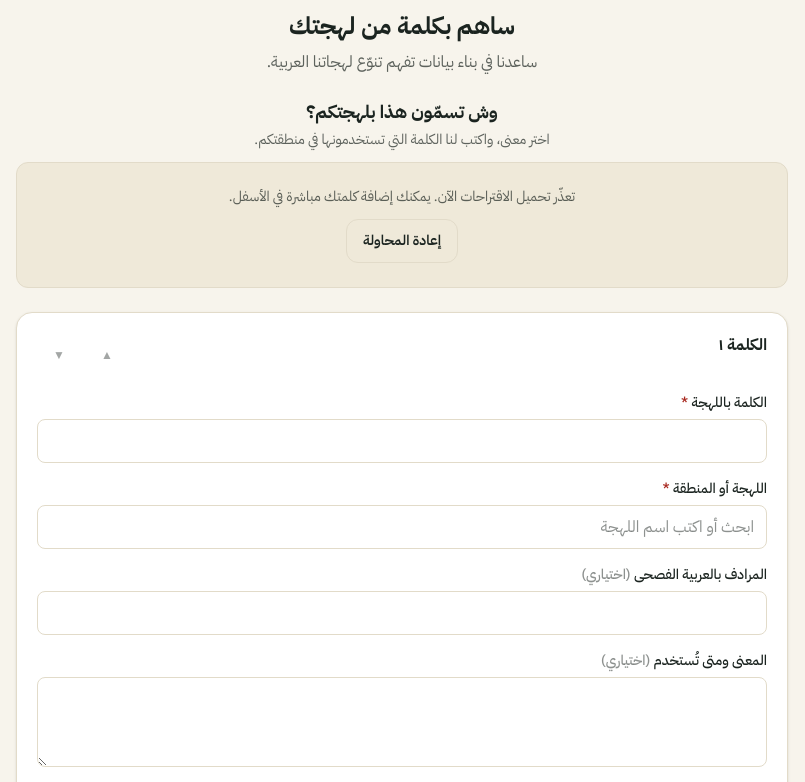
Test case: ContributionForm › retrying after a failed guided-prompt load refetches and clears the error state
The width and height of the screenshot is (805, 782).
Click the button "إعادة المحاولة": {"x": 402, "y": 241} 346,219 -> 458,263
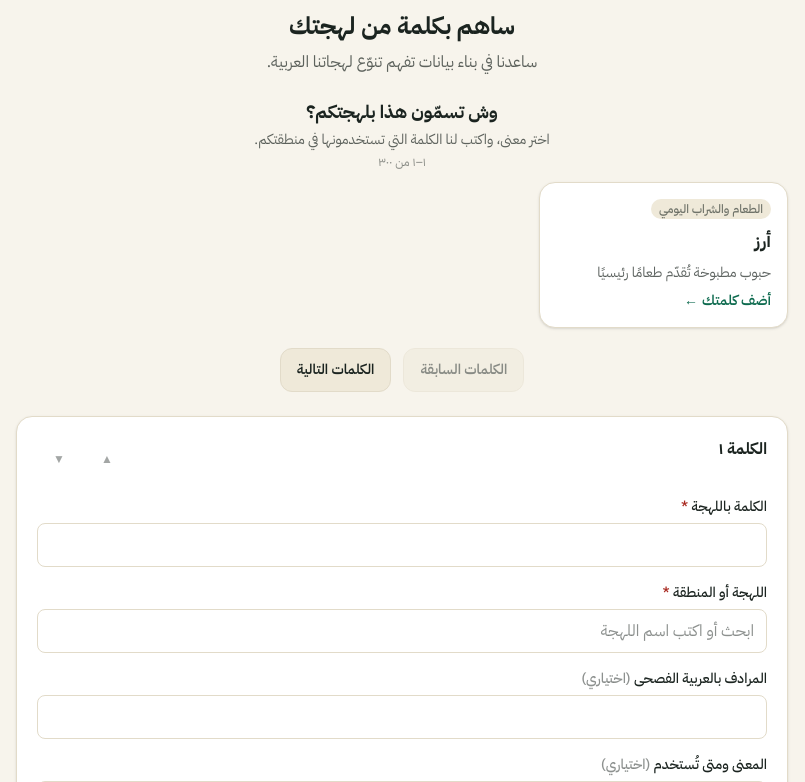
Check: the text "أرز" is shown, box 755,227 -> 771,255
